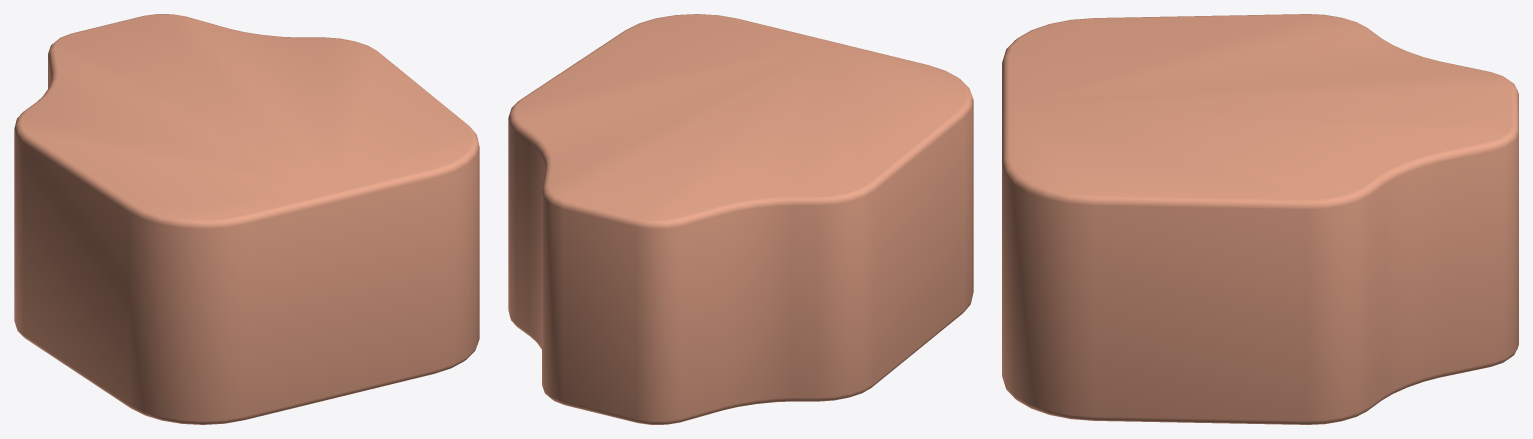
The model's file is island_lv13_2.fbx.
The picture shows the model from 3 angles, left to right: view 1: azimuth 30°, elevation 25°; view 2: azimuth 150°, elevation 25°; view 3: azimuth 270°, elevation 25°; orthographic projection. The views are drawn at different scales.
Visible parts, largest first — view 1: island_lv13_2; view 2: island_lv13_2; view 3: island_lv13_2.
Boxes of the visible parts, left/top/right/bottom form: island_lv13_2: left=14, top=14, right=479, bottom=424; island_lv13_2: left=508, top=14, right=973, bottom=424; island_lv13_2: left=1002, top=14, right=1518, bottom=424.
Bounding box in the file's own units: 913 × 500 × 1042.
